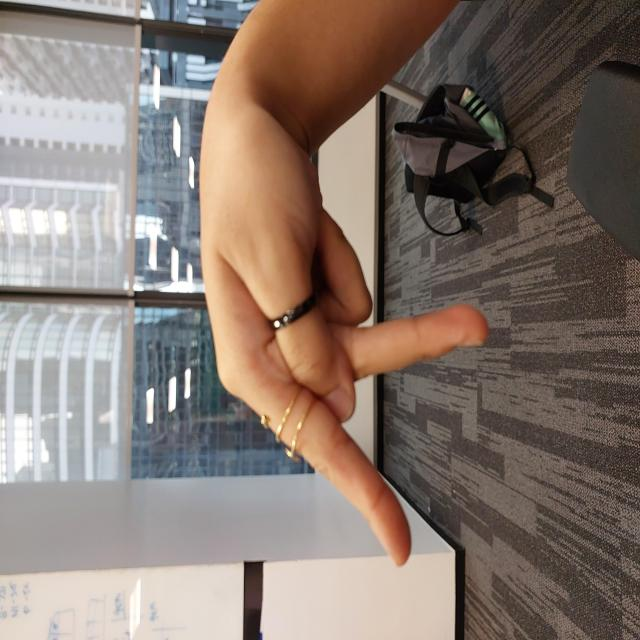P: (69, 195, 545, 491)
